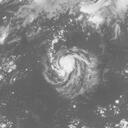cyclone: (44, 46, 98, 99)
